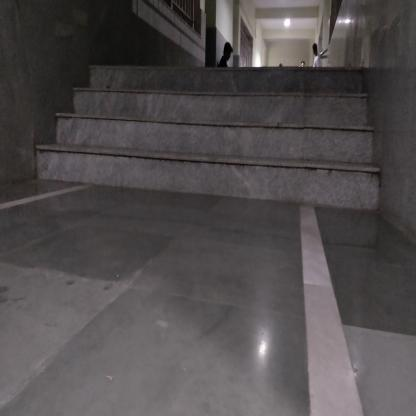stairs: (93, 67, 364, 205)
